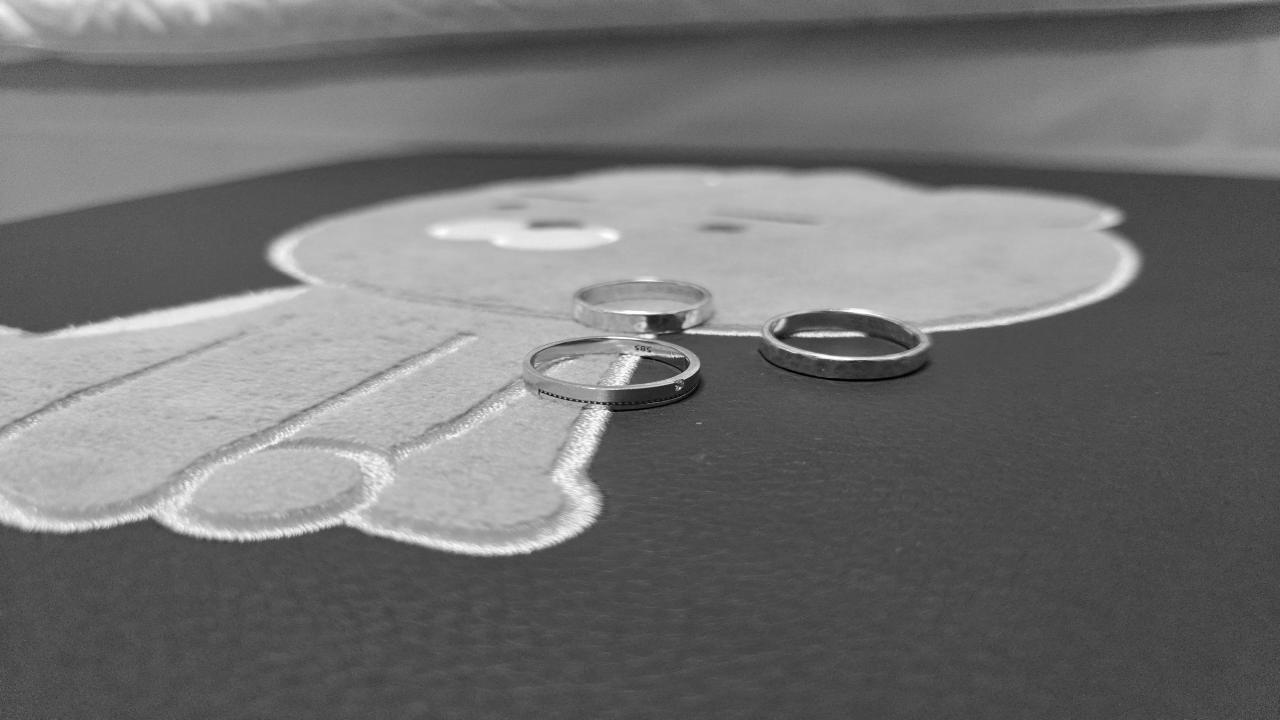ring: (524, 337, 702, 410), (761, 309, 930, 380), (571, 277, 713, 334)
